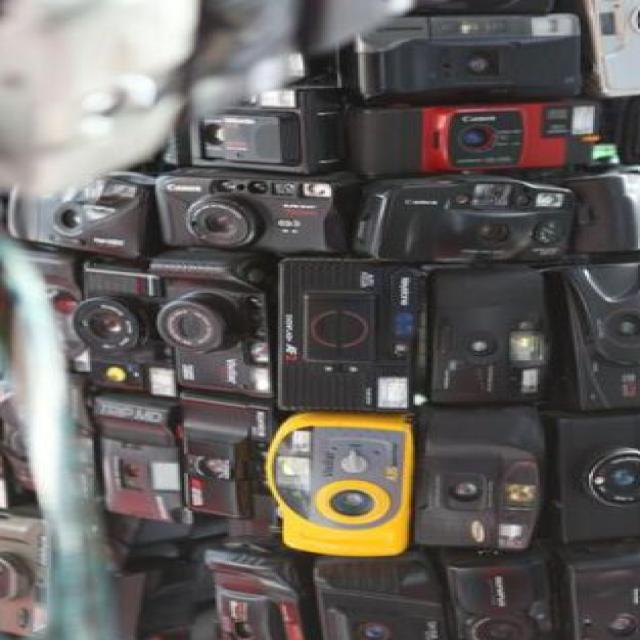electronic: (0, 0, 638, 639), (267, 260, 451, 434), (0, 142, 200, 284), (153, 158, 399, 263), (268, 404, 420, 559), (144, 238, 289, 397), (68, 378, 199, 552), (350, 160, 577, 260), (74, 260, 220, 413), (326, 100, 610, 177), (417, 253, 552, 402), (148, 384, 268, 540), (410, 402, 532, 541), (542, 263, 640, 430)
